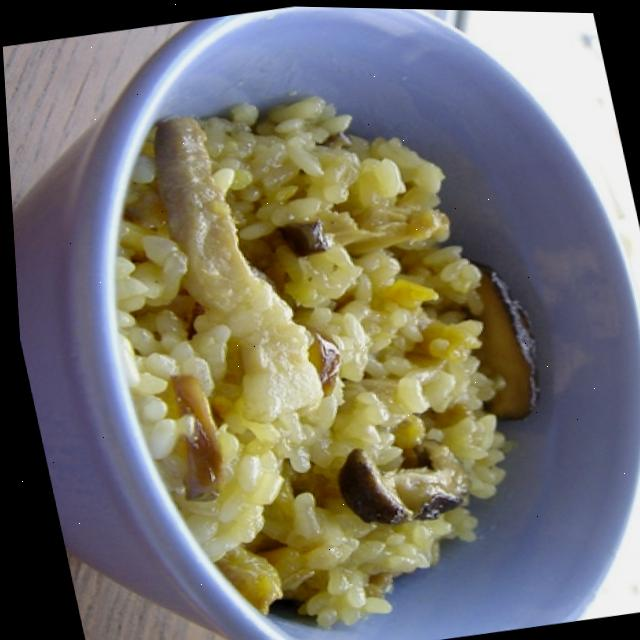米饭主食: (14, 29, 619, 640)
